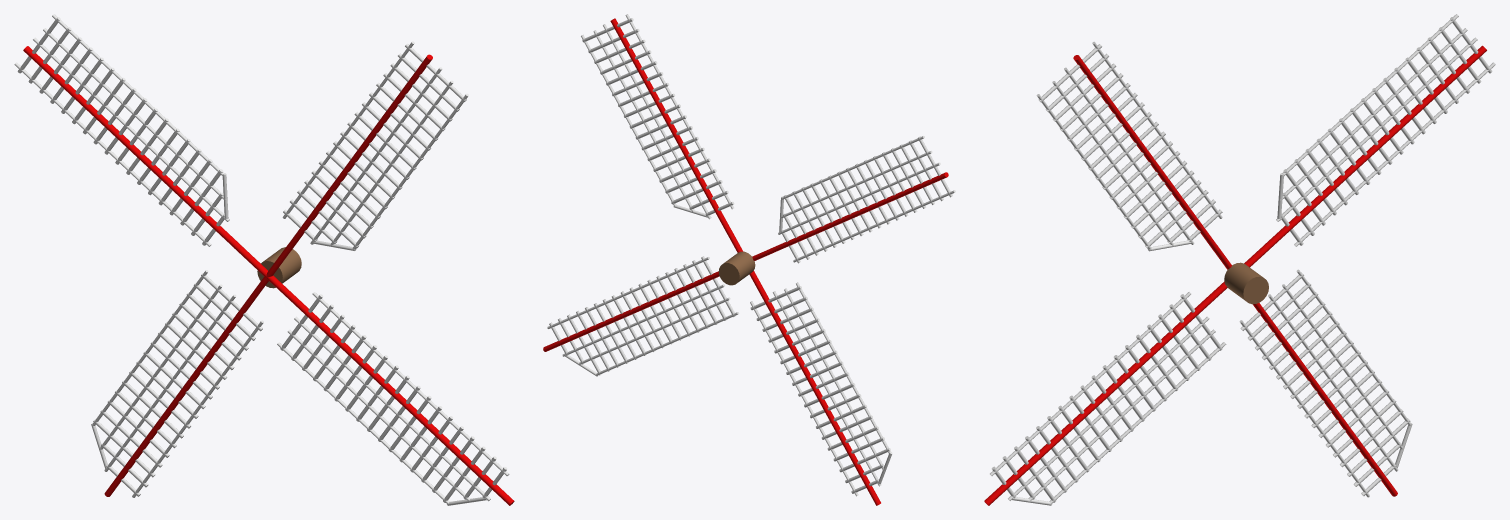
Rendered from ver1.fbx.
The picture shows the model from 3 angles, left to right: view 1: azimuth 30°, elevation 25°; view 2: azimuth 210°, elevation 25°; view 3: azimuth 270°, elevation 25°; orthographic projection. The views are drawn at different scales.
Parts seen in each view (by area): view 1: polySurface367; view 2: polySurface367; view 3: polySurface367.
Boxes of the visible parts, x1=… form: polySurface367: x1=14, y1=14, x2=514, y2=505; polySurface367: x1=543, y1=14, x2=955, y2=505; polySurface367: x1=984, y1=14, x2=1495, y2=505.
Size of the model in its own units: 1.74 by 3.49 by 3.05.
